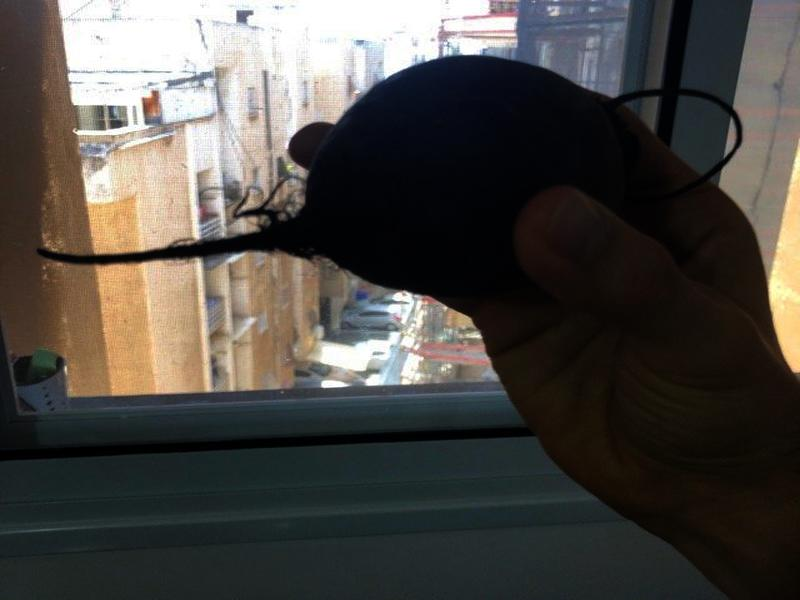Beet: (34, 54, 739, 296)
